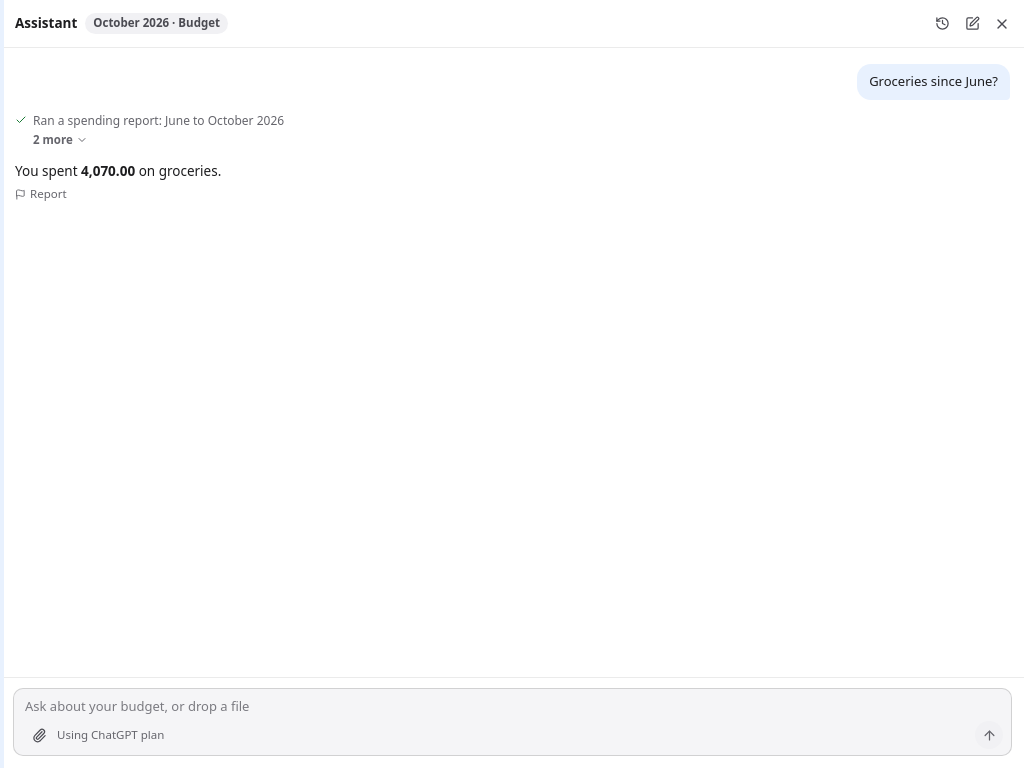
groups the lookups behind a reply
The image size is (1024, 768).
Expected: the text "Ran a spending report: June to October 2026" is shown, 33,112 -> 284,129
Expected: the text "Searched transactions: 40 found" is not shown
Click the button "2 more": coordinates (60, 140) 33,132 -> 88,149
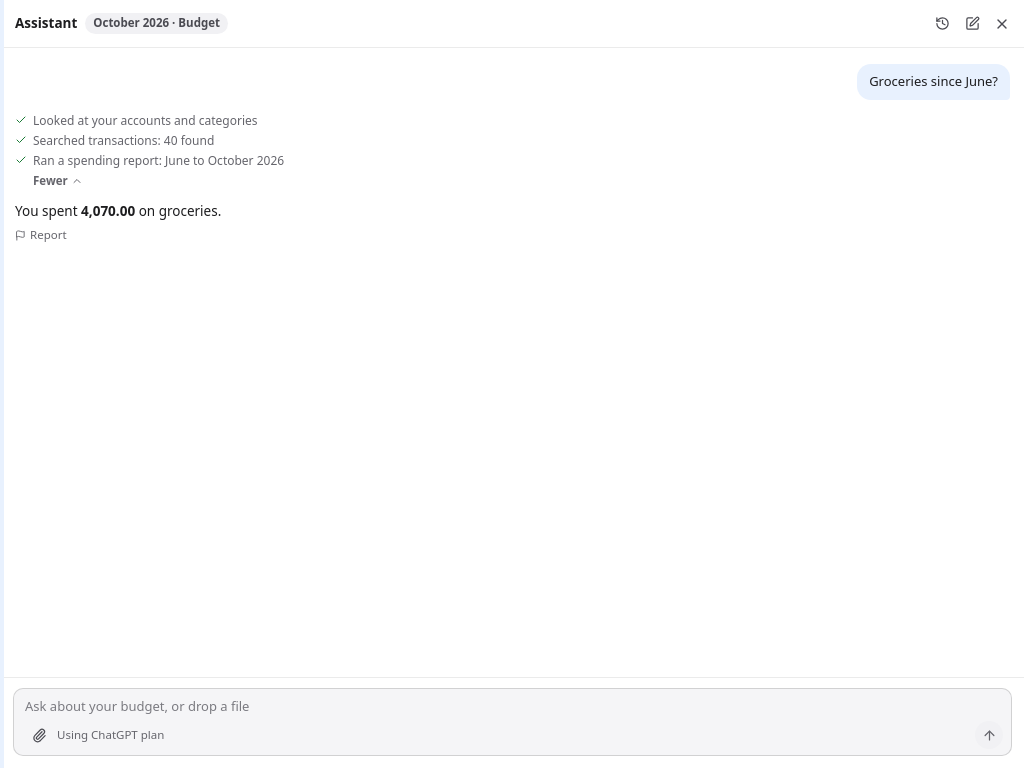
Expected: the text "Searched transactions: 40 found" is shown, 33,132 -> 214,149
